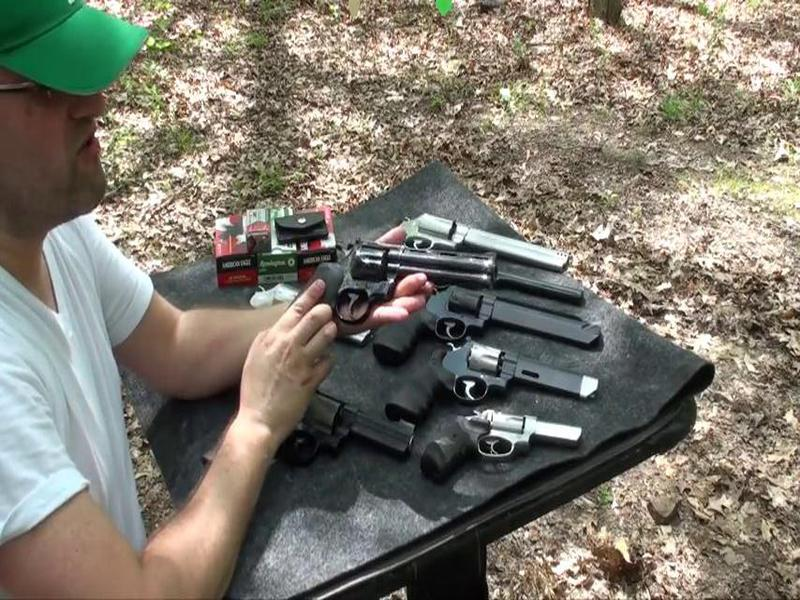Revolver: (295, 222, 499, 369)
